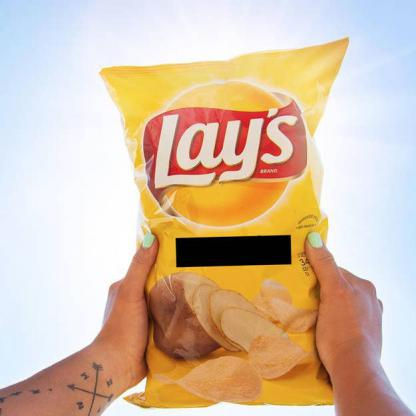potatochip: (79, 32, 372, 416)
